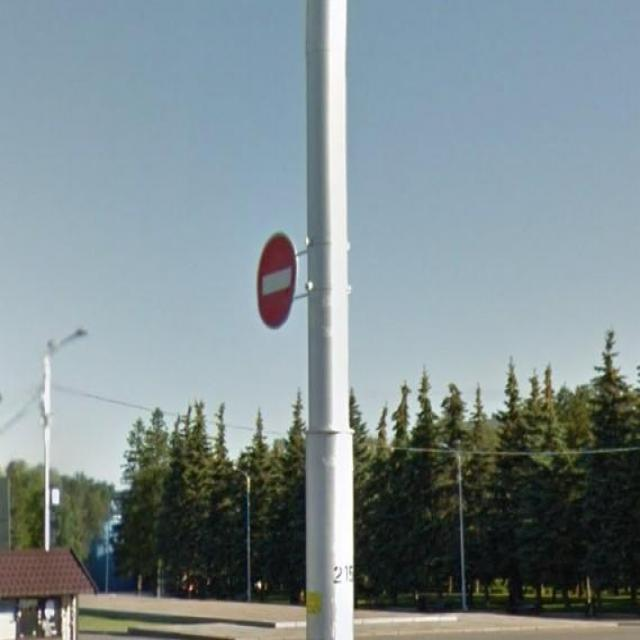do_not_enter: (253, 229, 300, 330)
